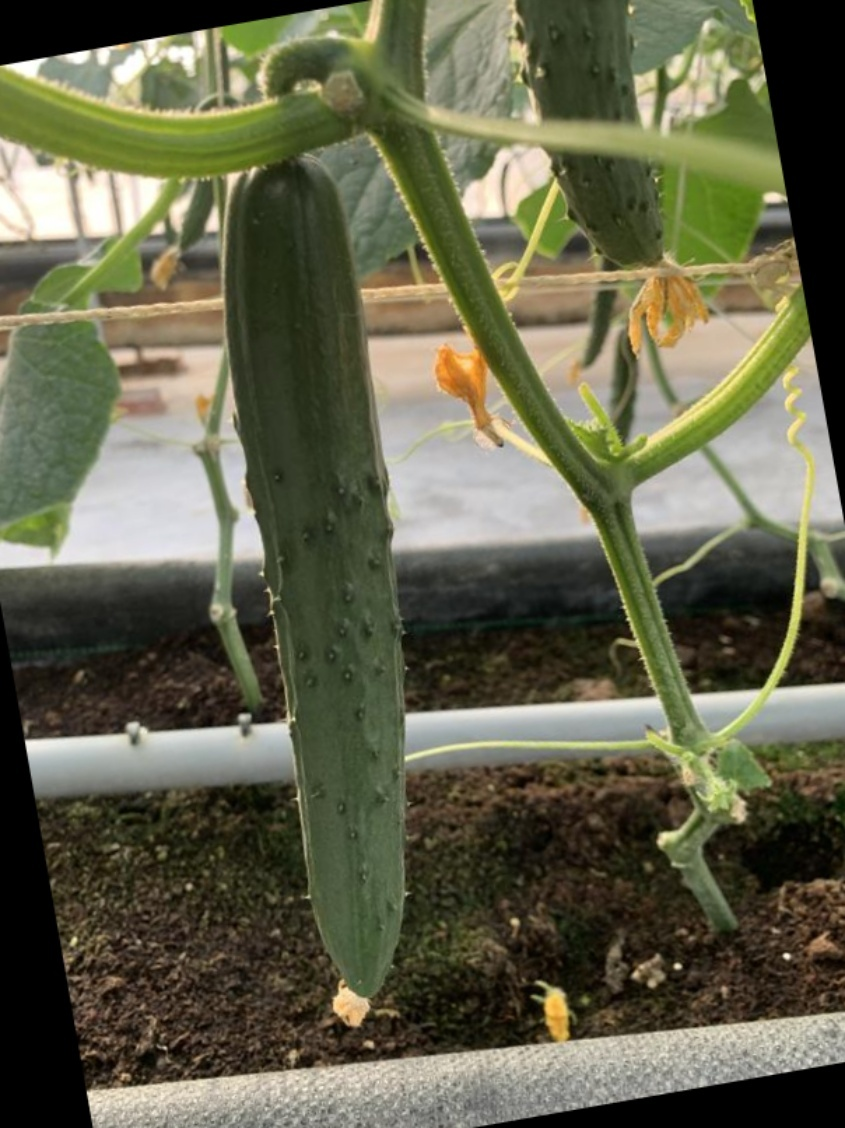mature: (181, 153, 448, 1010)
